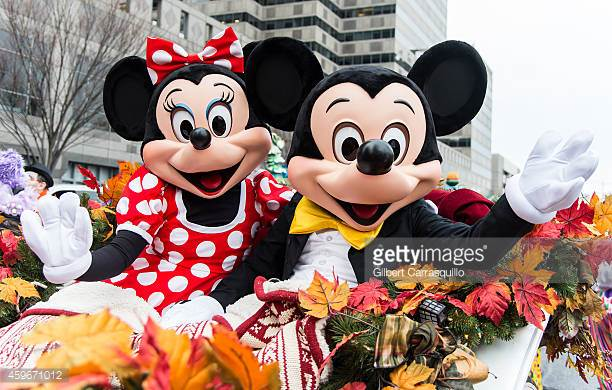Mickey: (245, 33, 490, 234)
